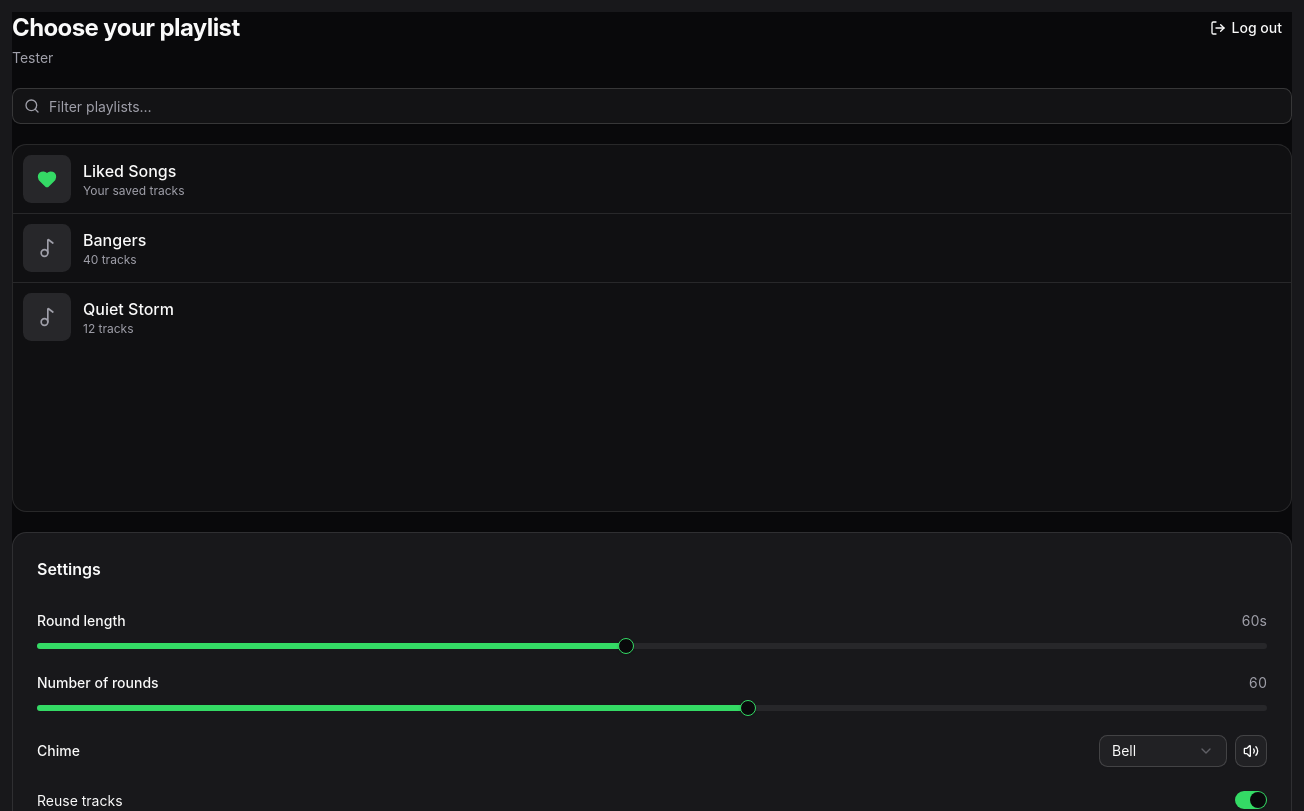
it: PlaylistPicker › explains an empty filter result
Type "zzzz" into the search field with placeholder "Filter playlists…" at coordinates (652, 106), box [12, 88, 1292, 124]
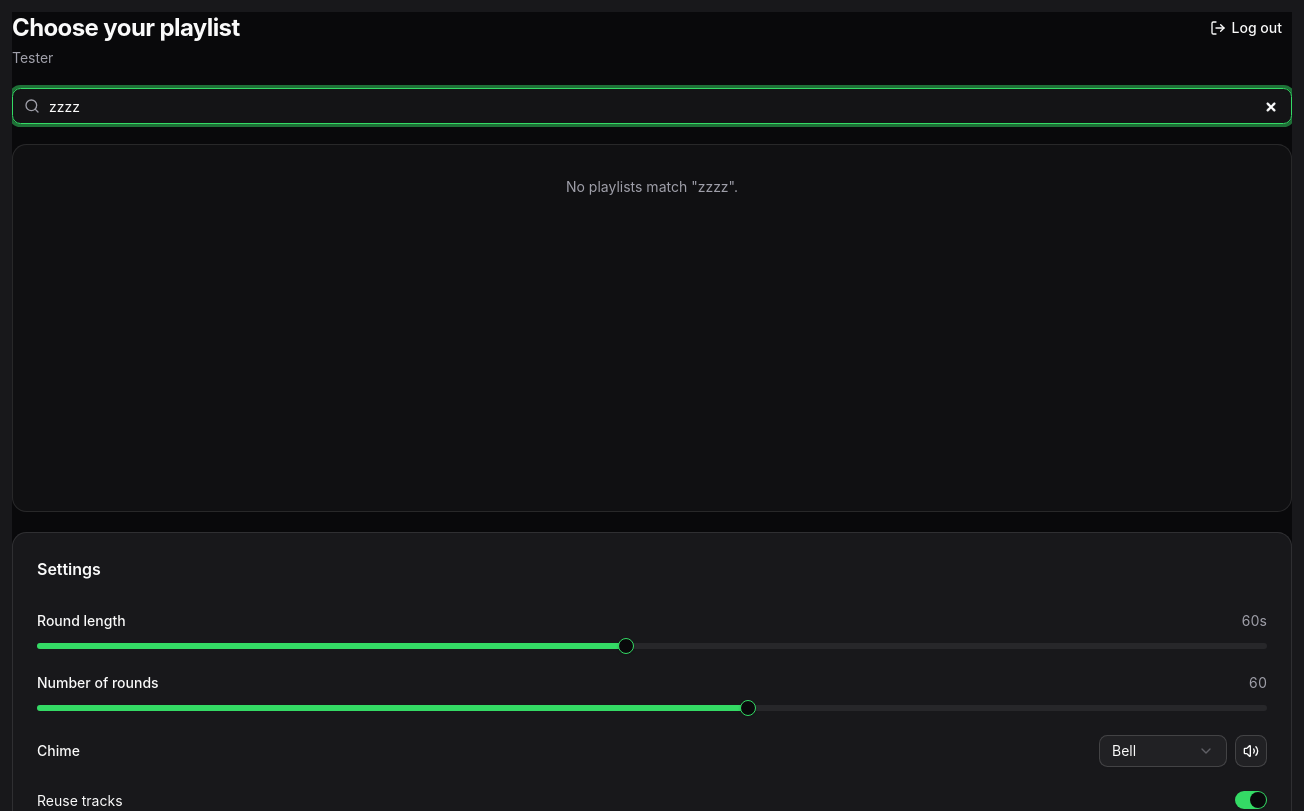
Expected: the text "No playlists match \"zzzz\"." is shown, [566, 178, 738, 195]
